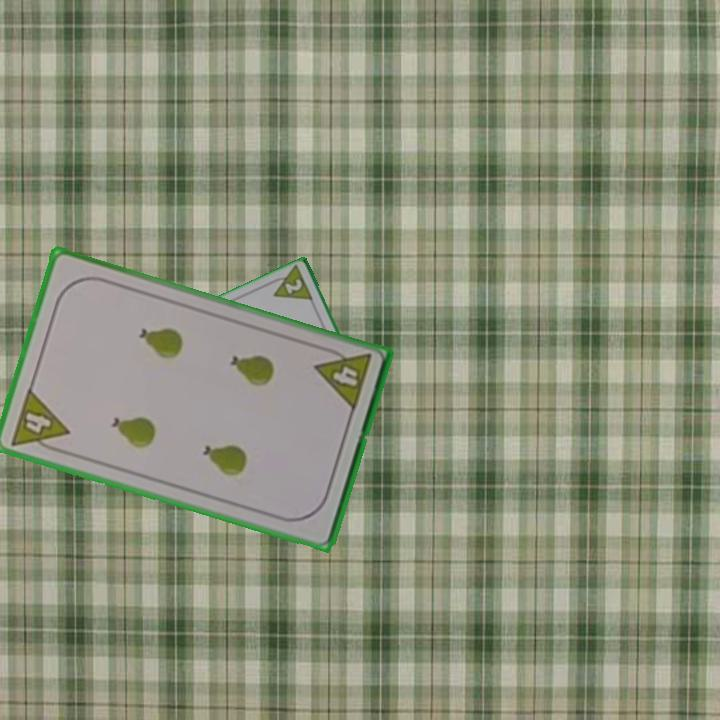2p: (263, 264, 317, 306)
4p: (6, 384, 72, 457), (311, 343, 374, 414)
